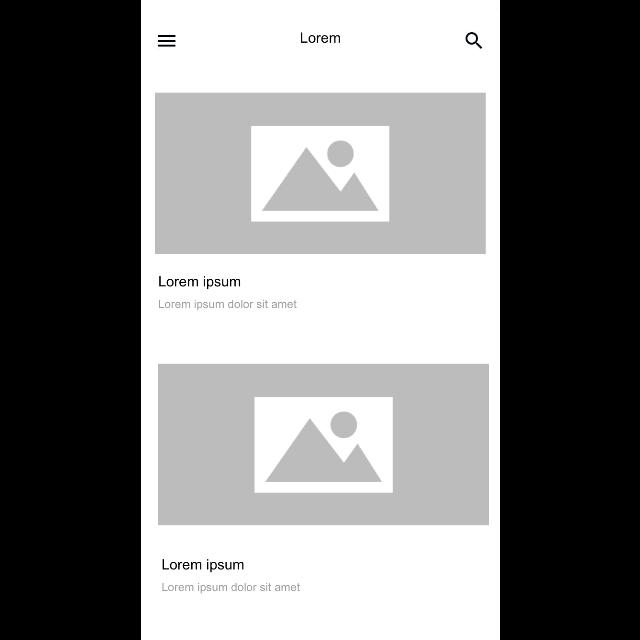icon: (466, 32, 482, 49), (157, 35, 175, 47)
image: (154, 93, 486, 255), (157, 363, 488, 525)
text: (161, 582, 299, 594), (158, 300, 296, 310), (158, 276, 240, 290), (162, 559, 244, 573), (300, 32, 340, 44)
